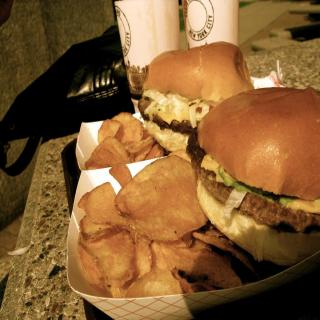Hamburger: (184, 87, 320, 268), (138, 42, 253, 151)
